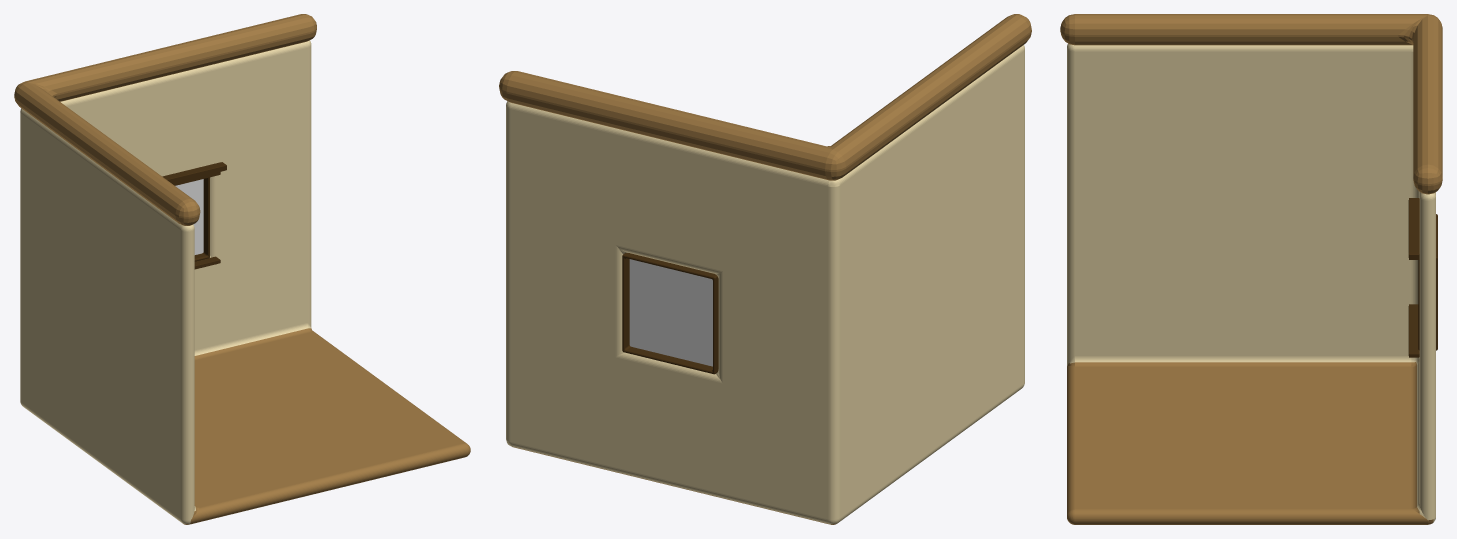
Rendered from Wall05.fbx.
The picture shows the model from 3 angles, left to right: view 1: azimuth 30°, elevation 25°; view 2: azimuth 150°, elevation 25°; view 3: azimuth 270°, elevation 25°; orthographic projection. The views are drawn at different scales.
Parts seen in each view (by area): view 1: Wall-floor, Wall-top, WindowGlow, WindowFrame03; view 2: Wall-floor, Wall-top, WindowGlow, WindowFrame04, WindowGlow.001; view 3: Wall-floor, Wall-top, WindowFrame03, WindowFrame04.
Part boxes in pixels (x1,y1,x2,y2): Wall-floor: (20, 40, 470, 524); Wall-top: (14, 14, 316, 225); WindowGlow: (175, 179, 203, 252); WindowFrame03: (162, 162, 226, 183); Wall-floor: (506, 45, 1024, 524); Wall-top: (499, 14, 1031, 180); WindowGlow: (629, 259, 712, 366); WindowFrame04: (622, 253, 718, 374); WindowGlow.001: (630, 262, 712, 364); Wall-floor: (1067, 43, 1435, 524); Wall-top: (1060, 14, 1442, 194); WindowFrame03: (1408, 198, 1419, 259); WindowFrame04: (1418, 214, 1437, 350).
Bounding box in the file's own units: 207 × 215 × 207.
